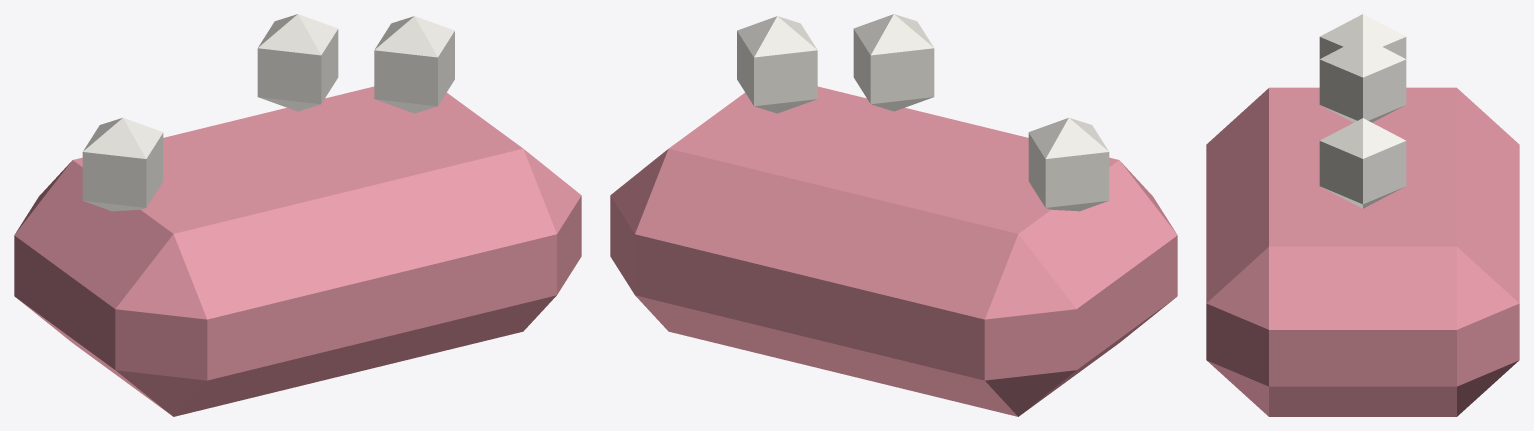
The model's file is soap.fbx.
3 views of the same model, side by side, from view 1: azimuth 30°, elevation 25°; view 2: azimuth 150°, elevation 25°; view 3: azimuth 270°, elevation 25° (orthographic). The views are drawn at different scales.
Parts seen in each view (by area): view 1: soap; view 2: soap; view 3: soap.
Part boxes in pixels (box(x1,y1,x2,y2)): soap: box(14, 14, 581, 416); soap: box(610, 14, 1177, 416); soap: box(1206, 14, 1519, 416).
Bounding box in the file's own units: 0.32 × 0.212 × 0.2.
